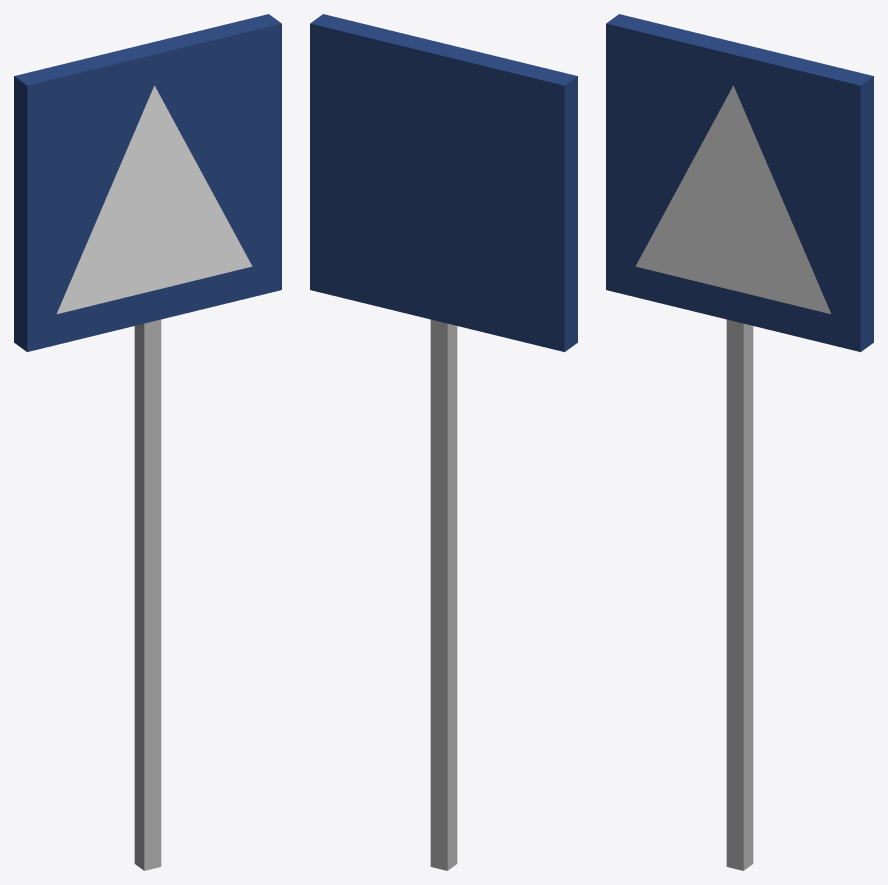
Rendered from Road_Sign_6.fbx.
3 renders of one model, left to right at view 1: azimuth 30°, elevation 25°; view 2: azimuth 150°, elevation 25°; view 3: azimuth 330°, elevation 25°, orthographic.
Parts seen in each view (by area): view 1: Road_Sign_6; view 2: Road_Sign_6; view 3: Road_Sign_6.
Boxes of the visible parts, left/top/right/bottom form: Road_Sign_6: left=14, top=14, right=281, bottom=870; Road_Sign_6: left=310, top=14, right=577, bottom=870; Road_Sign_6: left=606, top=14, right=873, bottom=870.
Bounding box in the file's own units: 1.11 × 3.39 × 0.0984.
Materials: 1 (1 with a texture image).
